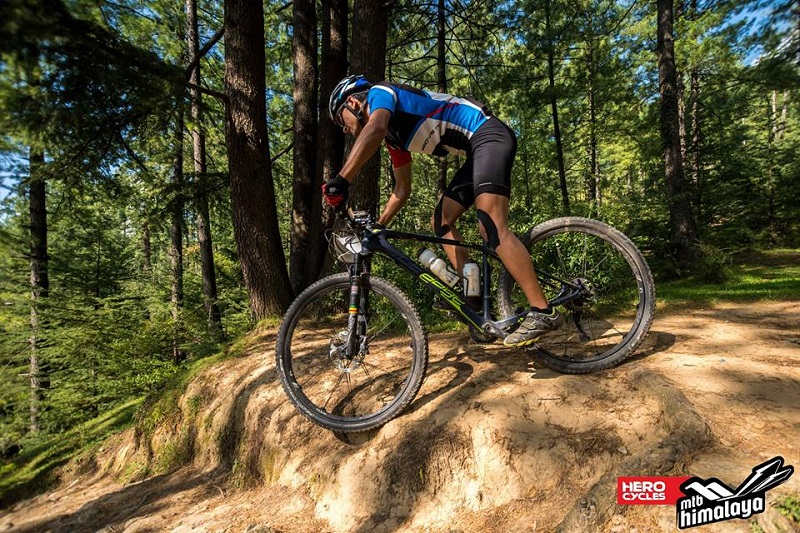with_helmet: (312, 73, 374, 117)
